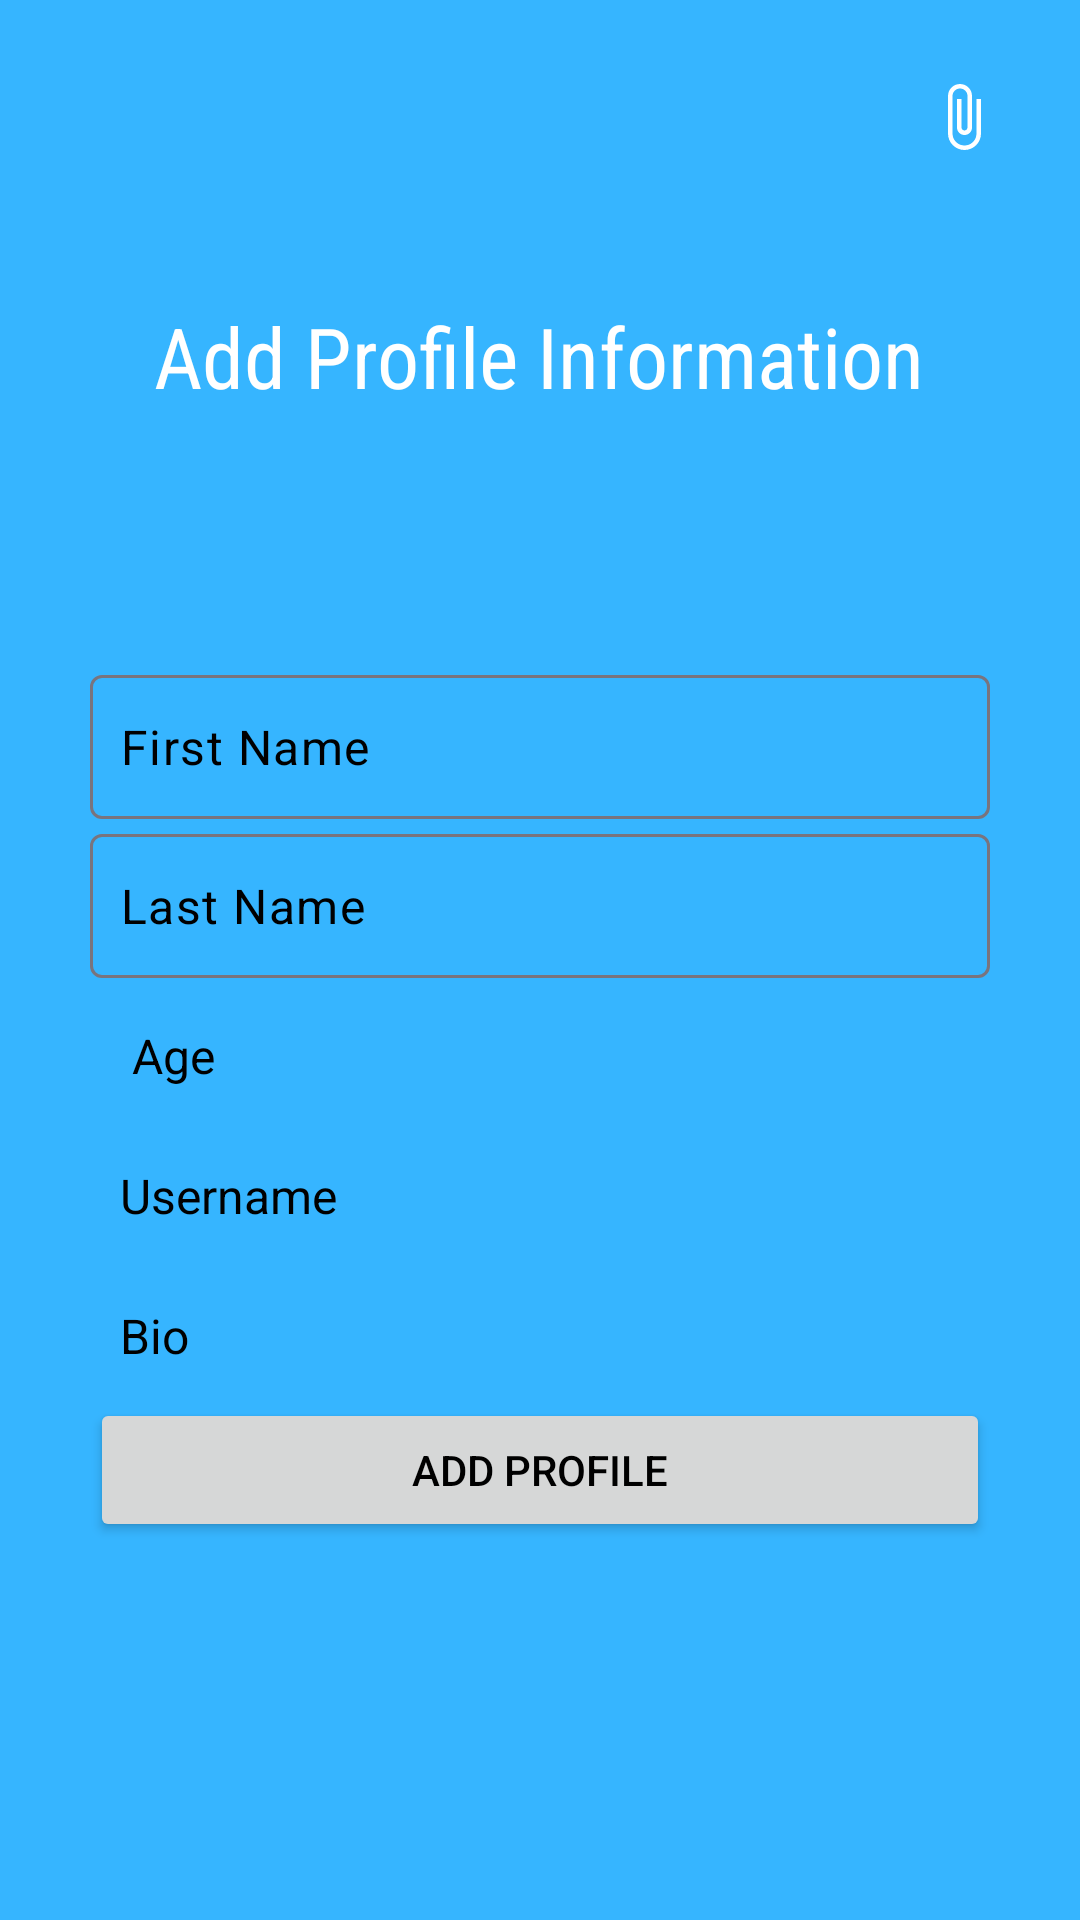

Icons on this 1080 × 1920 Android screen, each with its box as (x1, y1, x2, y2):
attach: (948, 84, 981, 150)
